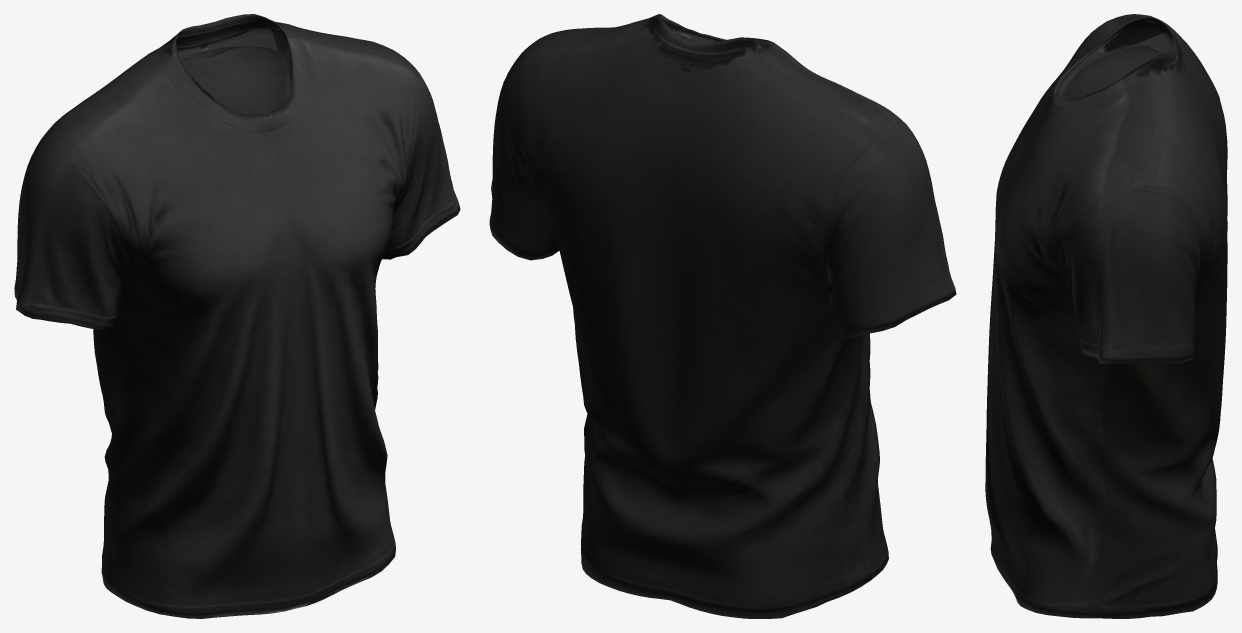
File: shirt2.glb
The picture shows the model from 3 angles, left to right: view 1: azimuth 30°, elevation 25°; view 2: azimuth 150°, elevation 25°; view 3: azimuth 270°, elevation 25°; orthographic projection. The views are drawn at different scales.
Bounding box in the file's own units: 1.75 × 2.01 × 0.8348.
Materials: 1 (1 with a texture image).
